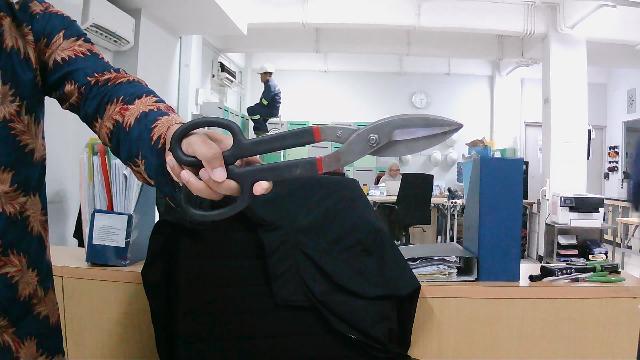gunting_plat: (162, 102, 473, 225)
